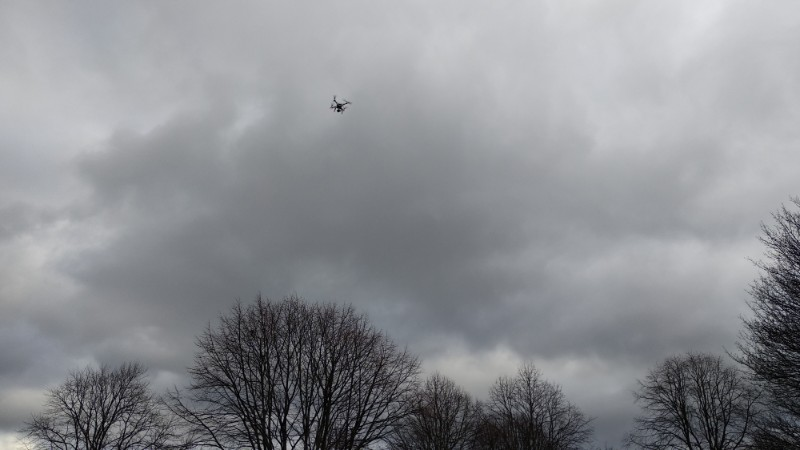drone: (328, 95, 353, 114)
